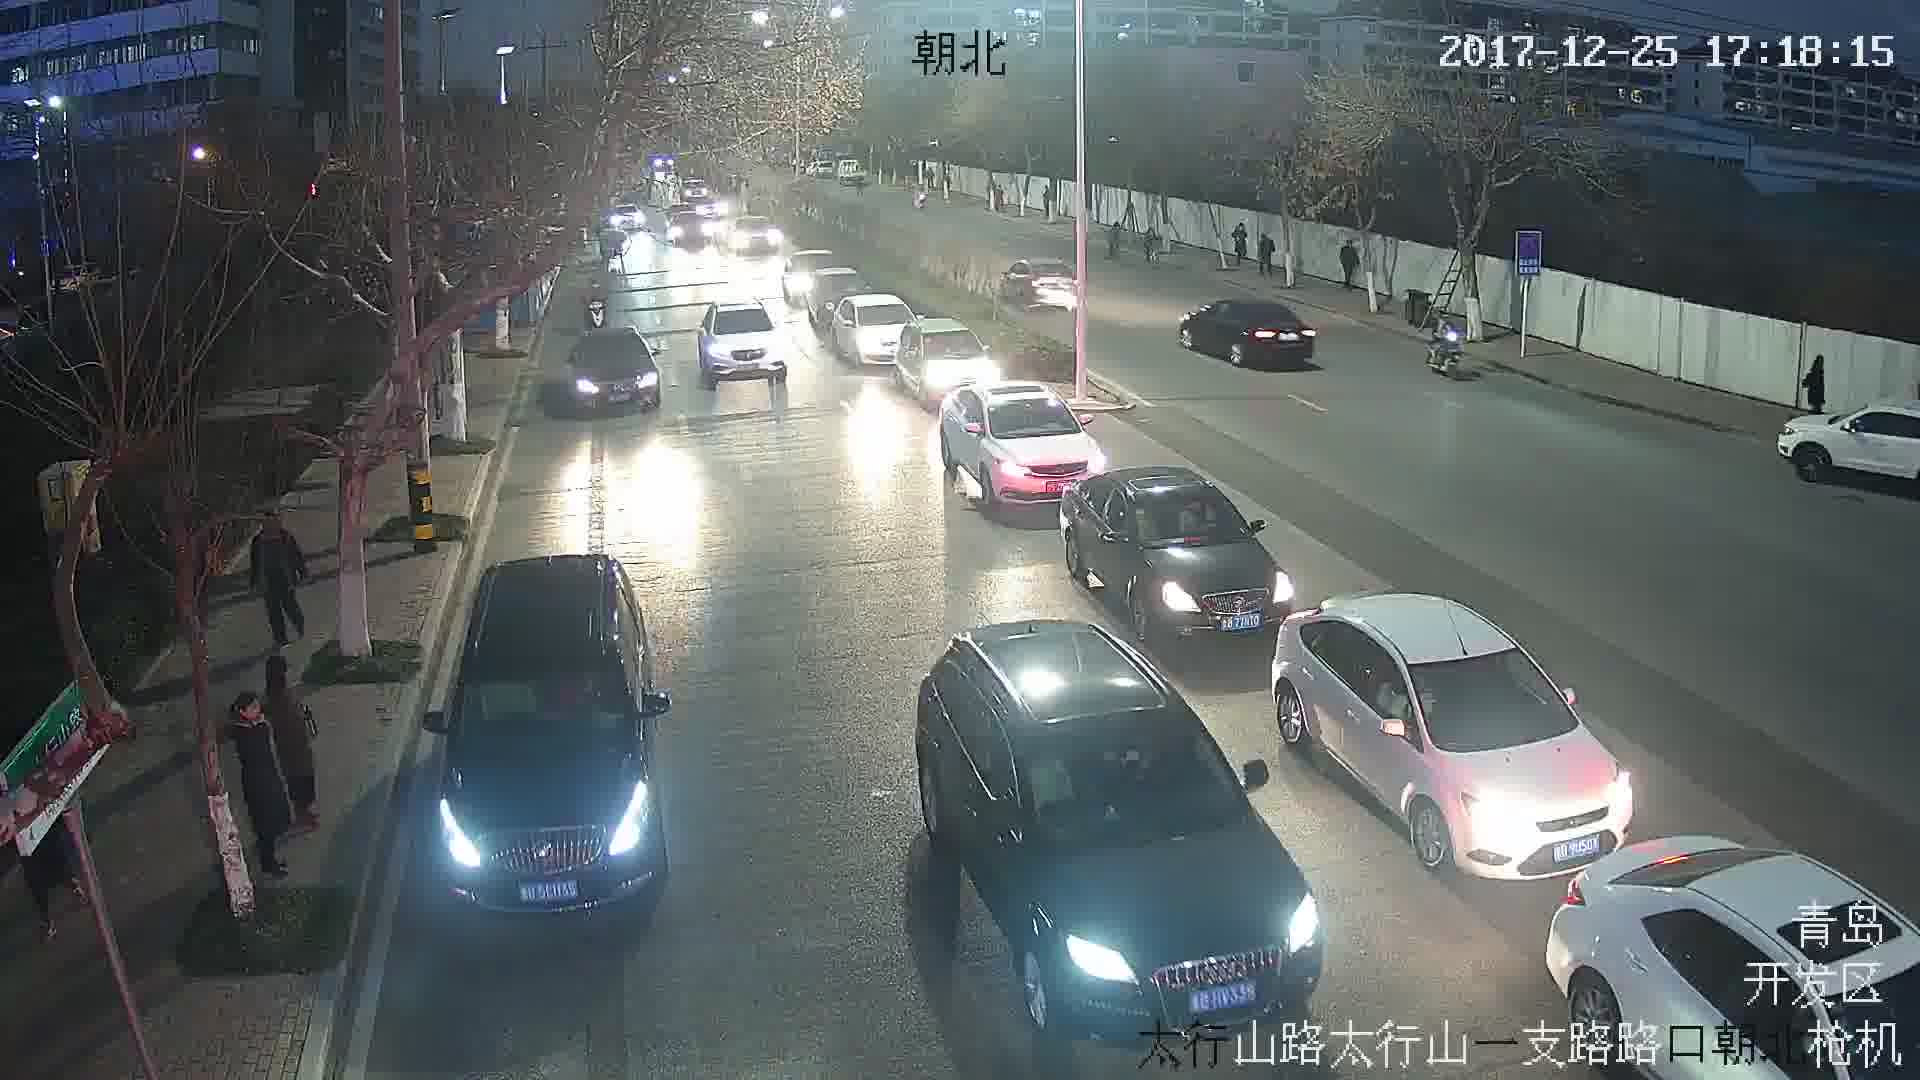car: (918, 619, 1323, 1038), (1273, 591, 1638, 874), (427, 553, 673, 919), (1067, 467, 1292, 638), (939, 377, 1117, 503), (1177, 295, 1318, 370), (566, 330, 664, 419), (700, 296, 789, 387), (1002, 257, 1084, 310)
person: (259, 655, 335, 831), (227, 698, 291, 877), (253, 513, 307, 645), (1802, 348, 1825, 412), (1341, 242, 1363, 289), (1252, 234, 1275, 271)
